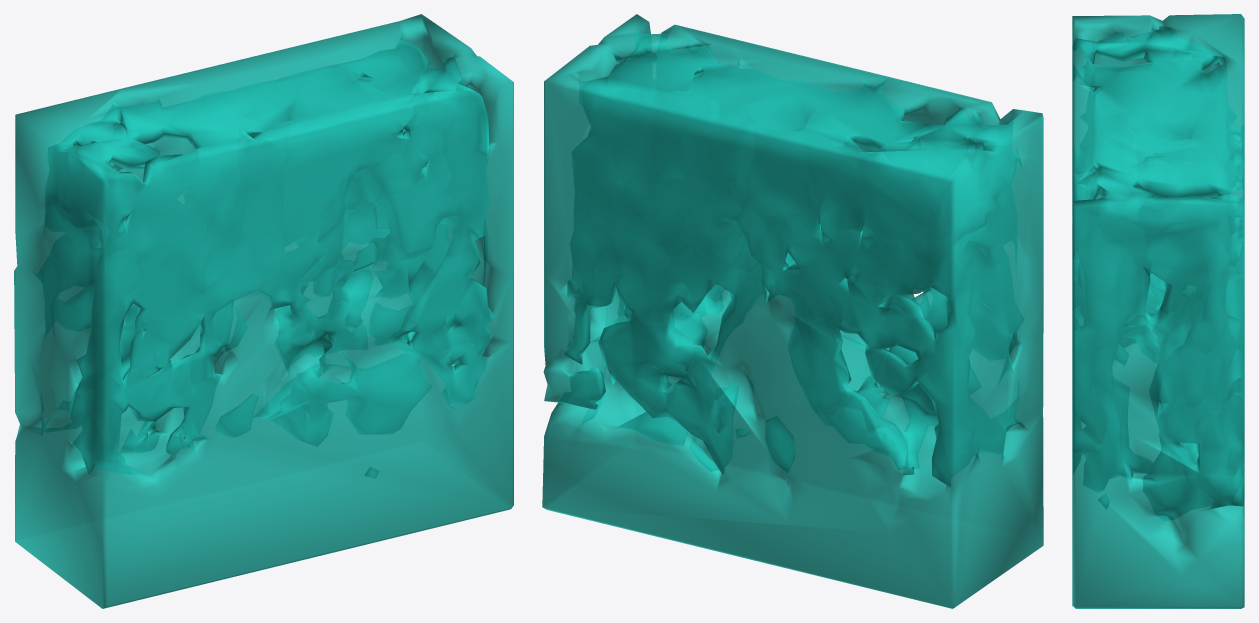
The picture shows the model from 3 angles, left to right: view 1: azimuth 30°, elevation 25°; view 2: azimuth 150°, elevation 25°; view 3: azimuth 270°, elevation 25°; orthographic projection. The views are drawn at different scales.
Parts seen in each view (by area): view 1: Liquid_Domain; view 2: Liquid_Domain; view 3: Liquid_Domain.
Boxes of the visible parts, x1=… form: Liquid_Domain: x1=14, y1=14, x2=513, y2=608; Liquid_Domain: x1=542, y1=14, x2=1043, y2=608; Liquid_Domain: x1=1072, y1=14, x2=1244, y2=608.
Bounding box in the file's own units: 1948 × 1948 × 749.
